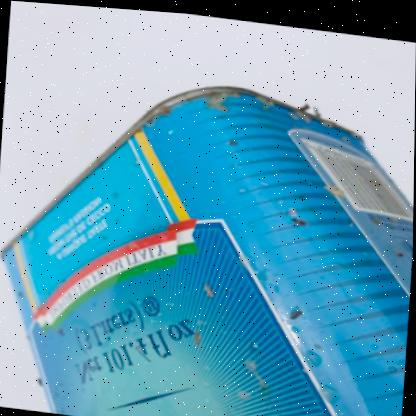Metal: (1, 82, 414, 416)
